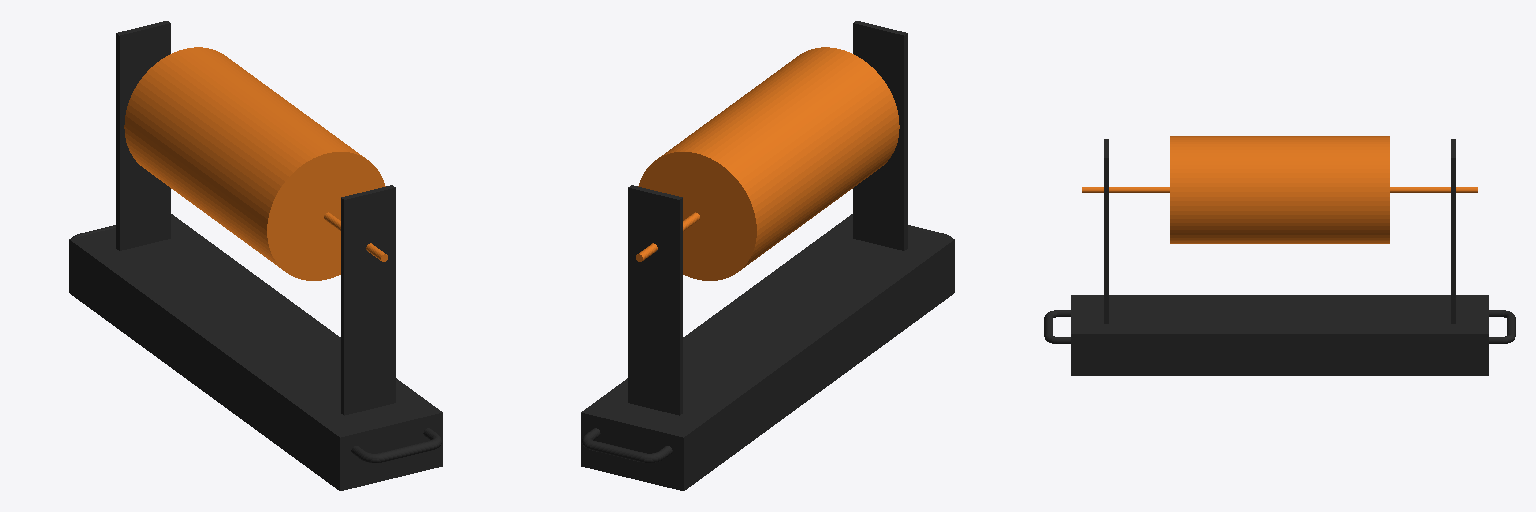
robot.urdf — grill.obj:
<?xml version="1.0" ?>
<robot name="grill.obj">
	<material name="LightGrey"><color rgba="0.7 0.7 0.7 1.0"/></material>
	<material name="Black"><color rgba="0.2 0.2 0.2 1.0"/></material>
	<material name="meat"><color rgba="0.9 0.5 0.16 1.0"/></material>
	<link name="meat">
		<visual>
			<origin xyz="0.0 0.0 0.2" rpy="0 0 0" />
			<geometry>
				<mesh filename="meat.obj" scale="0.0009 0.0012 0.0009" />
			</geometry>
			<material name="meat"/>
		</visual>
		<collision>
			<geometry>
				<mesh filename="meat_vhacd.obj" scale="0.0009 0.0012 0.0009" />
			</geometry>
		<origin xyz="0.0 0.0 0.2" rpy="0 0 0" /></collision>
		<inertial>
			<mass value="0.1" />
			<inertia ixx="0.1" ixy="0.0" ixz="0.0" iyy="0.1" iyz="-0.0" izz="0.03" />
		</inertial>
	</link>
	<link name="grill">
		<visual>
			<origin xyz="0.0 0.0 0.0" rpy="0 0 0" />
			<geometry>
				<mesh filename="grill_base.obj" scale="0.001 0.0012 0.001" />
			</geometry>
			<material name="Black"/>
		</visual>
		<collision>
			<geometry>
				<mesh filename="grill_base_vhacd.obj" scale="0.001 0.0012 0.001" />
			</geometry>
		<origin xyz="0.0 0.0 0.0" rpy="0 0 0" /></collision>
		<inertial>
			<mass value="0.5" />
			<inertia ixx="0.6" ixy="0.0" ixz="0.0" iyy="0.5" iyz="-0.0" izz="0.08" />
		</inertial>
	</link>
	<joint name="joint_1" type="fixed">
		<origin rpy="0.0 0.0 0.0" xyz="0 0 0"/>
		<child link="grill"/>
		<parent link="meat"/>
	</joint>
</robot>

--- Facts derived from the render (not from the file) ---
3 views of the same robot in one strip: view 1: azimuth 30°, elevation 25°; view 2: azimuth 150°, elevation 25°; view 3: azimuth 270°, elevation 25° (orthographic).
Robot: grill.obj — 2 links, 1 joints (1 fixed); root link meat; default pose: all joints at 0.
Visible links, largest first — view 1: grill, meat; view 2: grill, meat; view 3: grill, meat.
Link boxes in pixels (<box>): grill: <box>69,21,442,490</box>; meat: <box>124,47,387,280</box>; grill: <box>581,21,954,490</box>; meat: <box>636,47,899,280</box>; grill: <box>1044,139,1515,375</box>; meat: <box>1082,136,1477,243</box>.
Size in the robot's own frame: 0.1169 by 0.5136 by 0.2585 metres.
Meshes: 2 distinct files referenced, 2 mesh visuals loaded (2 OBJ).